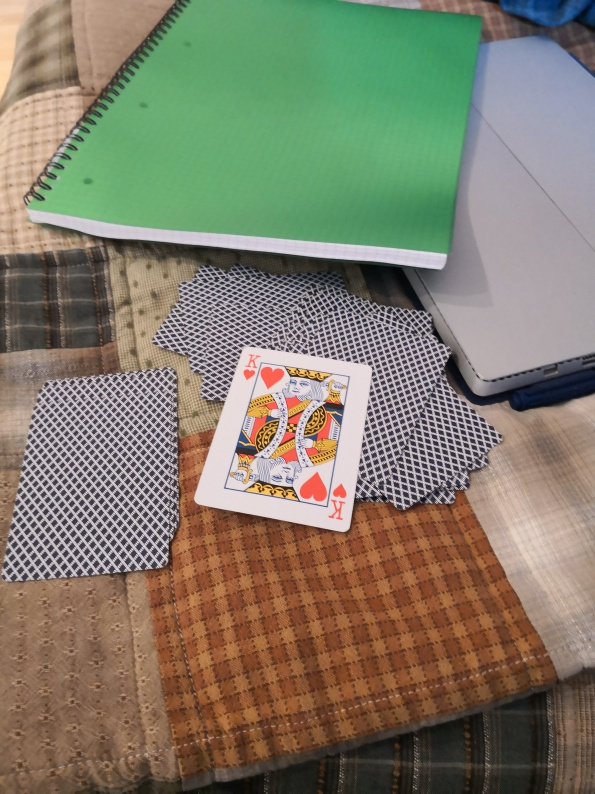king: (192, 345, 373, 536)
